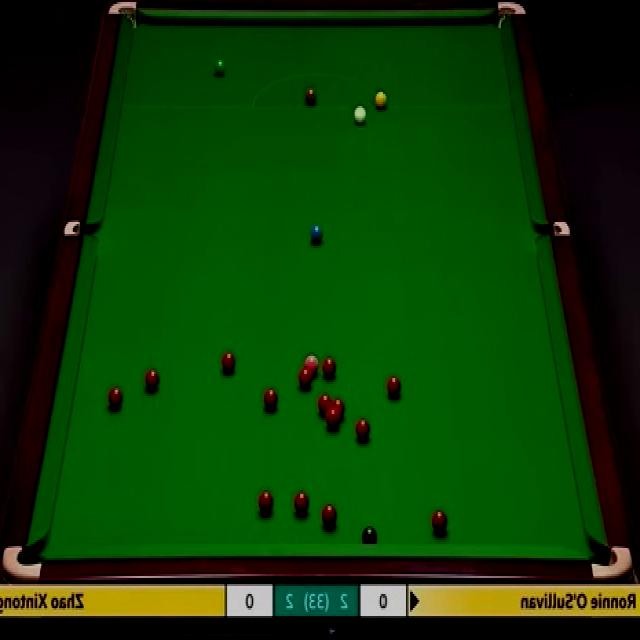black-ball: (358, 525, 376, 544)
blue-ball: (310, 225, 324, 242)
brown-ball: (304, 88, 317, 110)
green-ball: (215, 58, 225, 73)
pink-ball: (304, 354, 318, 374)
red-ball: (316, 393, 333, 419), (320, 504, 338, 528), (294, 488, 309, 516), (432, 509, 449, 533), (352, 417, 368, 441), (107, 386, 124, 408), (145, 368, 161, 391), (386, 377, 402, 398), (222, 352, 237, 373), (326, 408, 340, 430), (258, 491, 272, 513), (331, 399, 345, 418), (299, 367, 313, 386), (264, 390, 278, 408), (324, 357, 337, 376)
white-ball: (353, 104, 366, 122)
yellow-ball: (375, 90, 387, 110)
